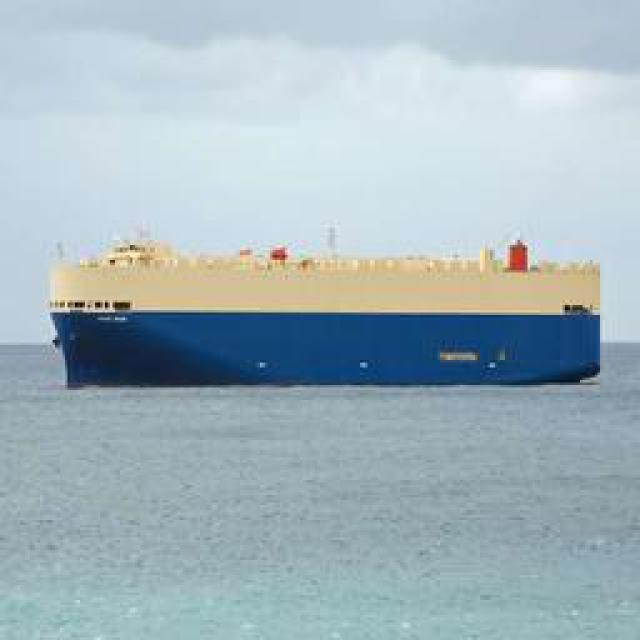Ship: (62, 236, 592, 389)
